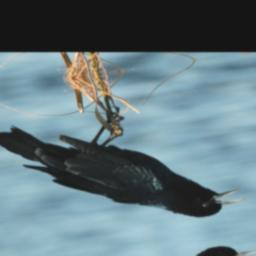Crow: (0, 92, 248, 244)
